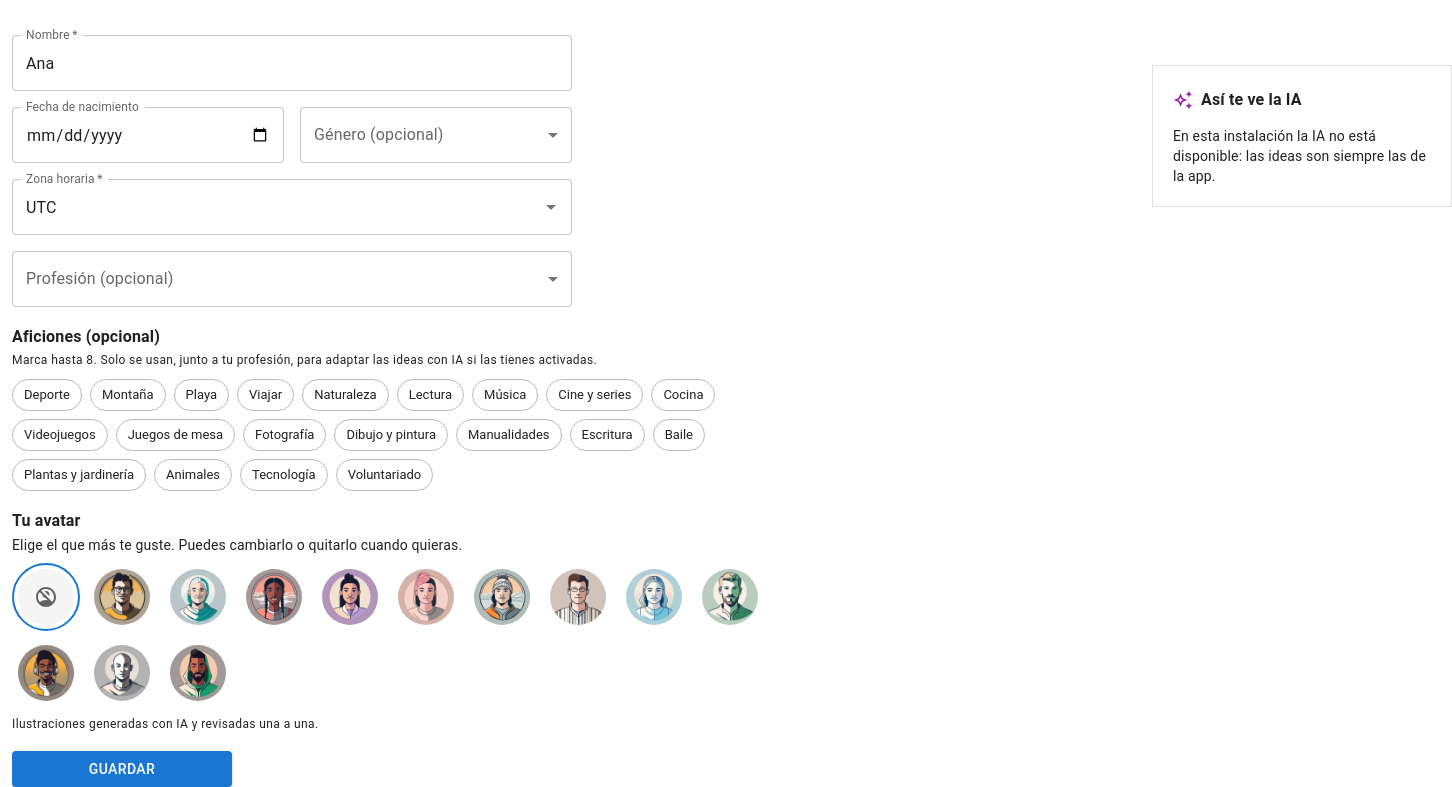
Test: ProfileForm (RF-03) › RF-46: sin profesión ni aficiones, se envían vacías (así se pueden quitar)
Check: the field labelled "Nombre *" holds "Ana", box [12,35,572,91]
Click the button "Guardar" at {"x": 122, "y": 769}, box [12,751,232,786]
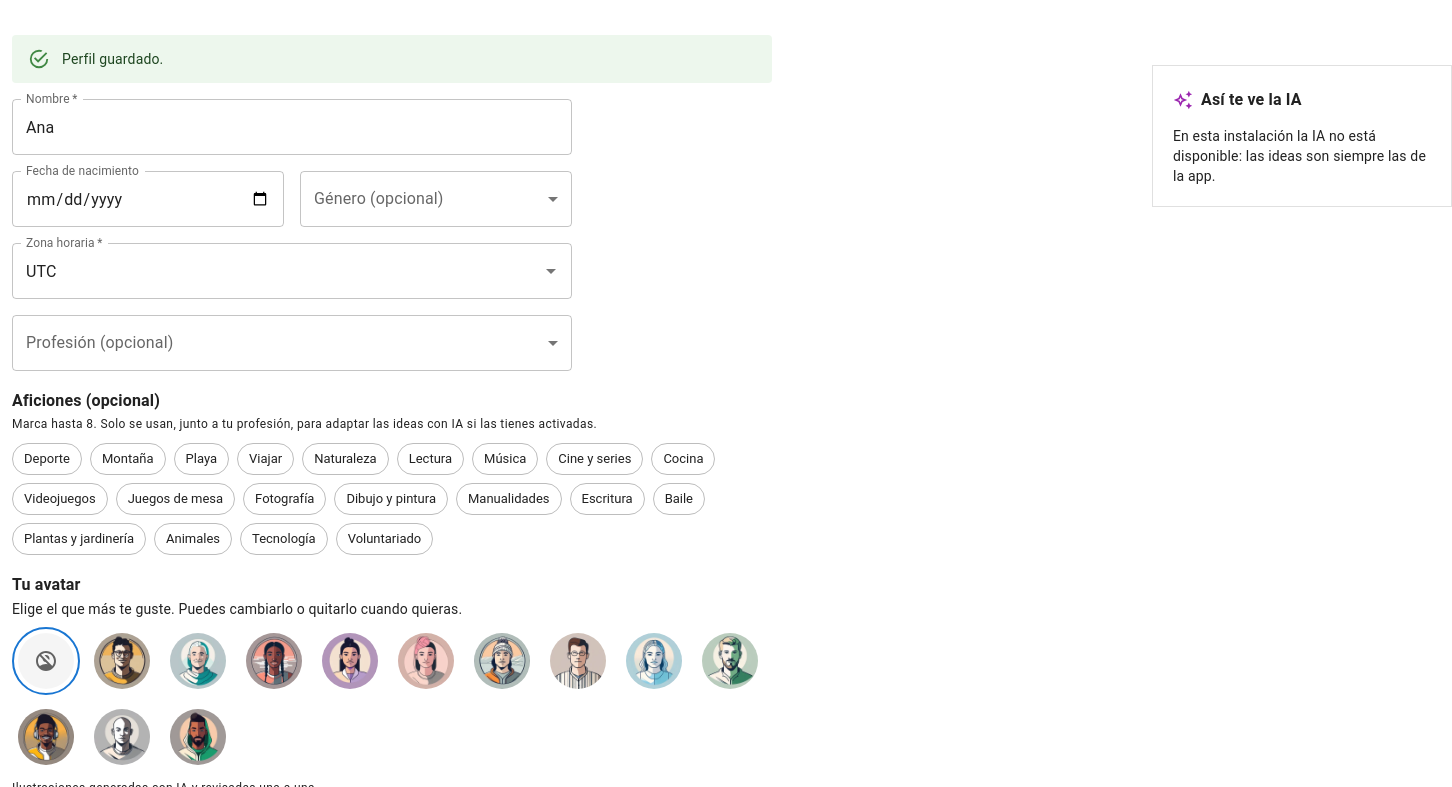
Check: the text "Perfil guardado." is shown, box [62,51,164,67]
